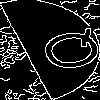Q: (25, 25, 100, 78)
